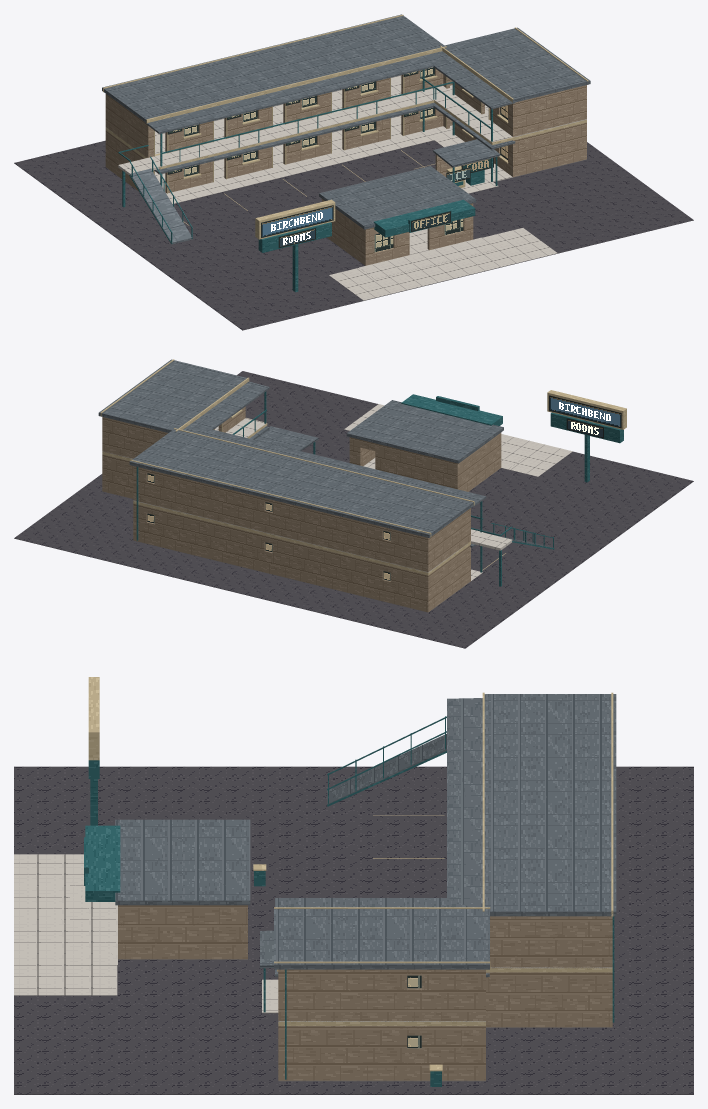
File: birchbend-1985-mid.glb
3 renders of one model, top to bottom at view 1: azimuth 30°, elevation 25°; view 2: azimuth 150°, elevation 25°; view 3: azimuth 270°, elevation 25°, orthographic. The views are drawn at different scales.
Parts seen in each view (by area): view 1: shell, lot, interior, exterior_stair, roadside_sign, sign_name_street; view 2: shell, lot, roadside_sign, sign_name_exit, exterior_stair, interior; view 3: lot, shell, exterior_stair, roadside_sign, interior.
Part boxes in pixels (x1,y1,x2,y2): shell: (102,14,590,265); lot: (14,140,693,330); interior: (106,75,586,265); exterior_stair: (118,145,192,244); roadside_sign: (255,199,335,292); sign_name_street: (261,205,333,237); shell: (98,359,503,612); lot: (14,371,693,648); roadside_sign: (547,390,626,482); sign_name_exit: (549,395,621,428); exterior_stair: (471,523,554,586); interior: (102,426,500,612); lot: (14,766,693,1094); shell: (84,692,616,1080); exterior_stair: (327,716,446,806); roadside_sign: (88,677,99,825); interior: (118,959,612,1081).
Size of the model in its own units: 35.8 by 6.15 by 31.4.
8 materials, 8 textured.
